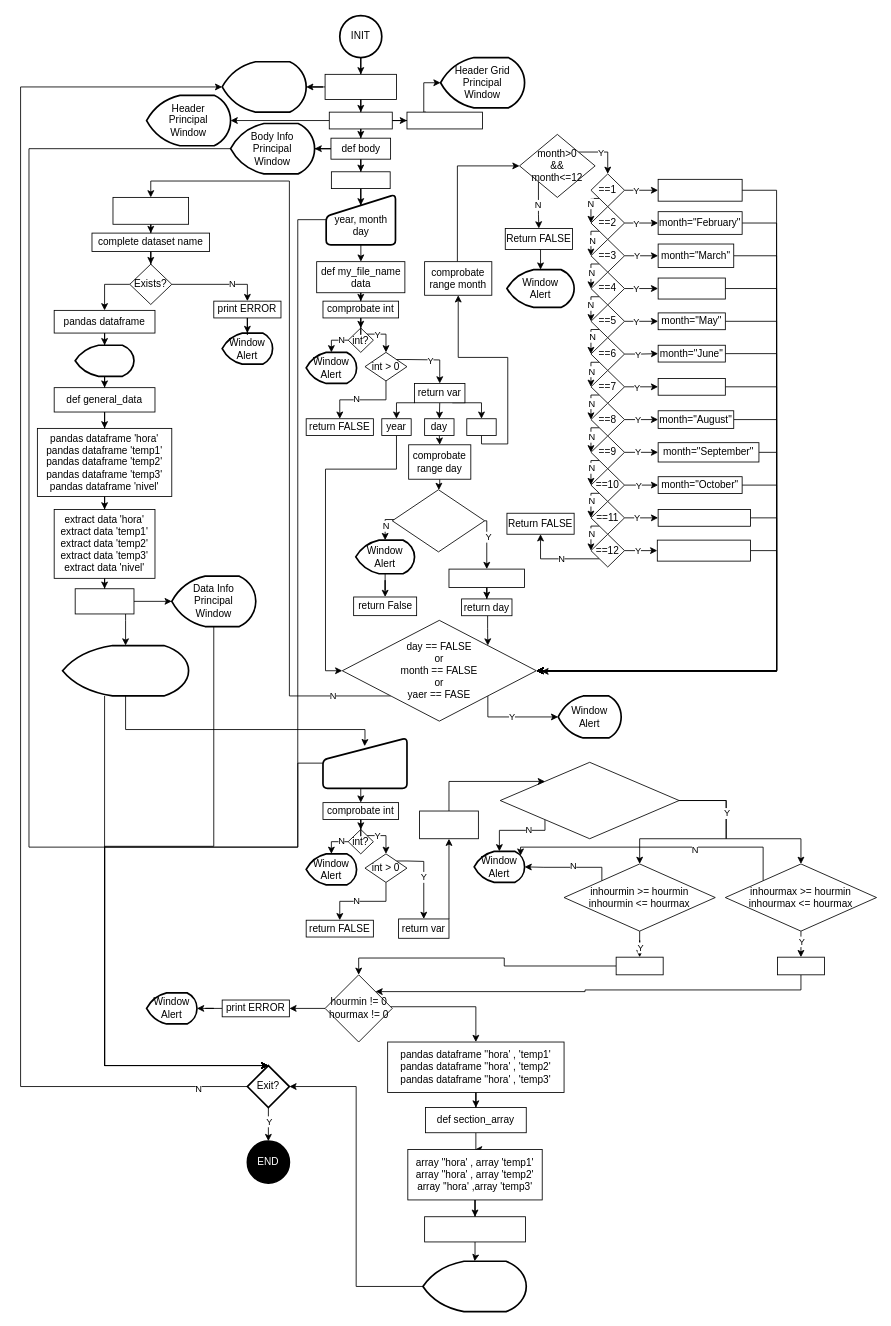
Some shapes in this 891 by 1326 pixel diagram are drawn without their labels. Each missing label, with the centre of its shape:
day = str day: the point at 486,578
day > 0 && day <= 31: the point at 438,520
def check_file: the point at 150,210
def grid_header: the point at 444,120
def header: the point at 360,120
def section_plot: the point at 474,1229
def txt_zone: the point at 360,180
Finish Hour Info Principal Window: the point at 125,670
gather info: the point at 104,601
hour max: the point at 800,965
hour min: the point at 639,965
hour_min hour_max: the point at 364,763
hourmin == FALSE inhourmin == FALSE hourmax == FALSE inhourmax == FALSE: the point at 589,800
month: the point at 481,427
month="April": the point at 691,288
month="December": the point at 703,550
month="January": the point at 699,189
month="July": the point at 691,386
month="November": the point at 704,517
new data: the point at 448,824
Principal Window: the point at 264,86
register_dash: the point at 360,87
Window Confirm: the point at 104,360
Windows Graphics Matplot-Tkinter: the point at 474,1286
